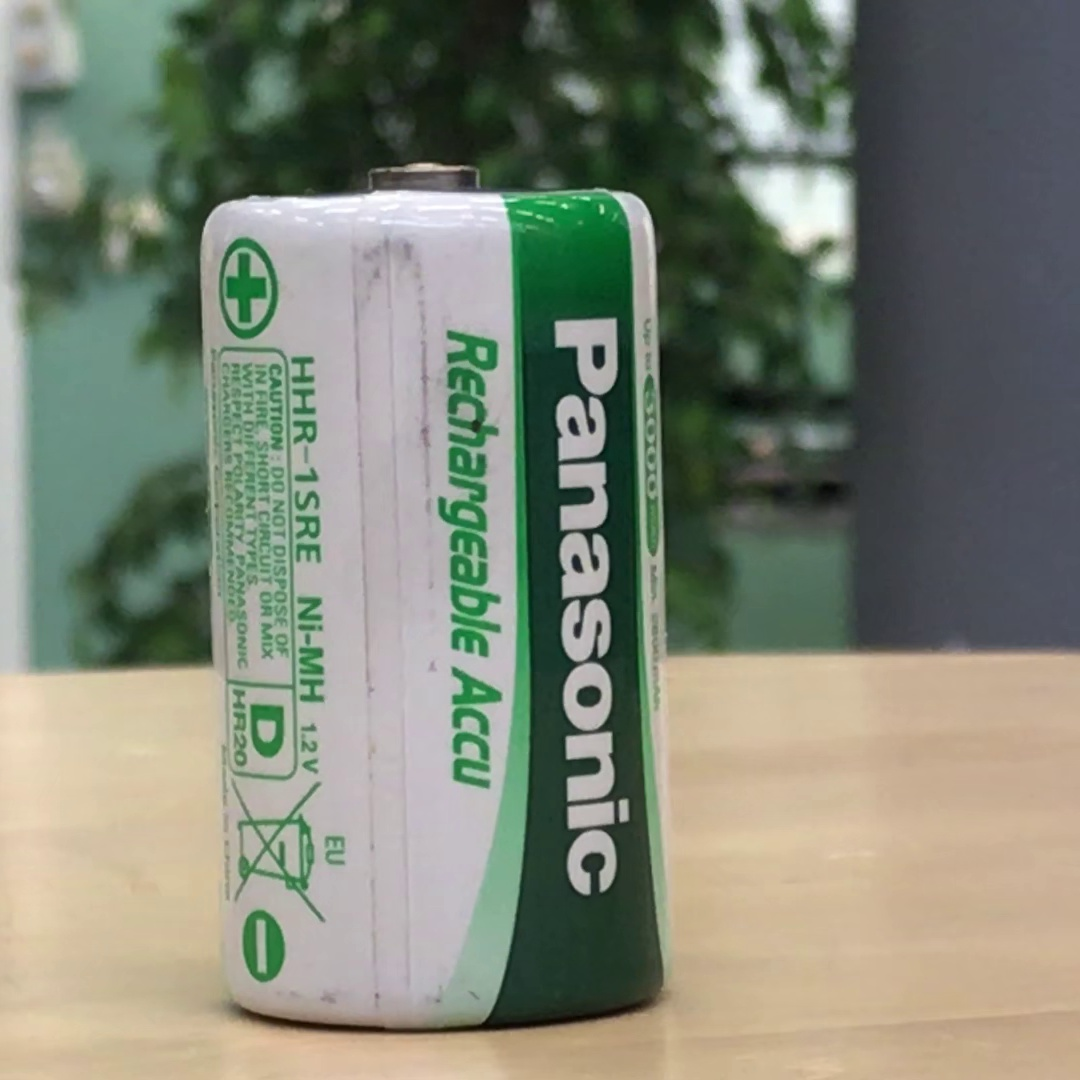keyword: (282, 592, 333, 704)
